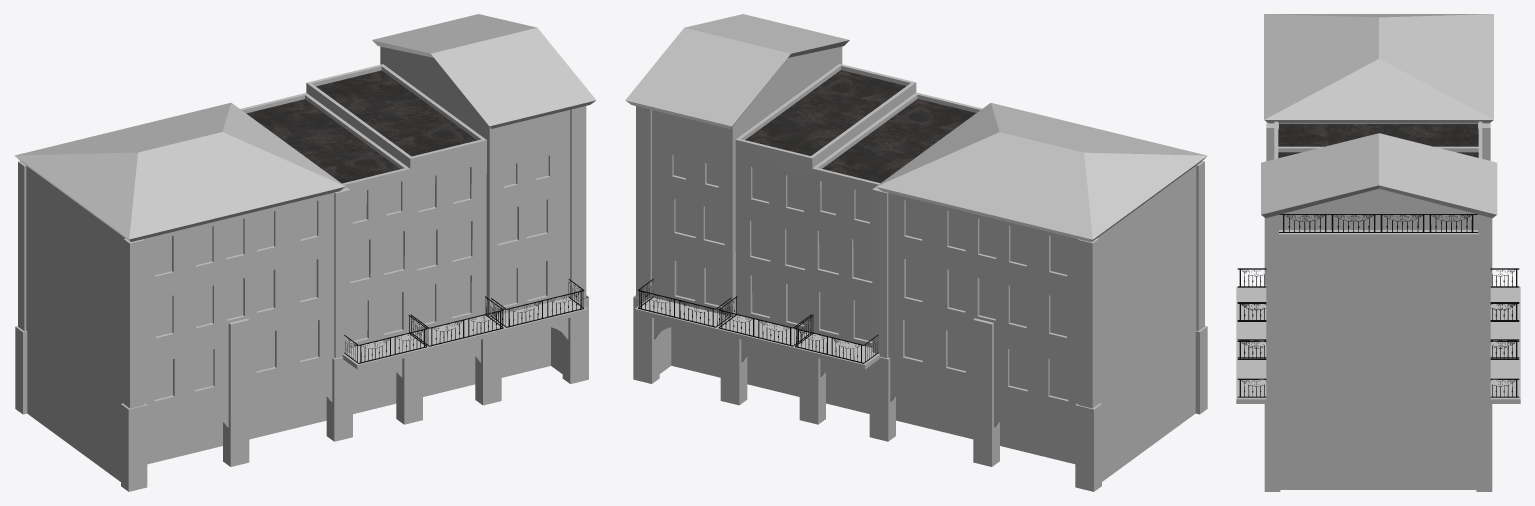
The model's file is Euro_v6_1.FBX.
The picture shows the model from 3 angles, left to right: view 1: azimuth 30°, elevation 25°; view 2: azimuth 150°, elevation 25°; view 3: azimuth 270°, elevation 25°; orthographic projection.
Visible parts, largest first — view 1: Euro_v6_1, Euro_v6_1_Roof_floor, Euro_v6_1_Forged_fence; view 2: Euro_v6_1, Euro_v6_1_Roof_floor, Euro_v6_1_Forged_fence; view 3: Euro_v6_1, Euro_v6_1_Forged_fence, Euro_v6_1_Roof_floor.
Part boxes in pixels (x1,y1,x2,y2): Euro_v6_1: [14, 14, 596, 491]; Euro_v6_1_Roof_floor: [246, 70, 476, 183]; Euro_v6_1_Forged_fence: [344, 279, 584, 363]; Euro_v6_1: [625, 14, 1207, 491]; Euro_v6_1_Roof_floor: [745, 70, 976, 183]; Euro_v6_1_Forged_fence: [638, 278, 878, 363]; Euro_v6_1: [1236, 14, 1520, 491]; Euro_v6_1_Forged_fence: [1237, 214, 1519, 397]; Euro_v6_1_Roof_floor: [1278, 124, 1478, 158].
Size of the model in its own units: 29.73 by 18.83 by 15.68.
